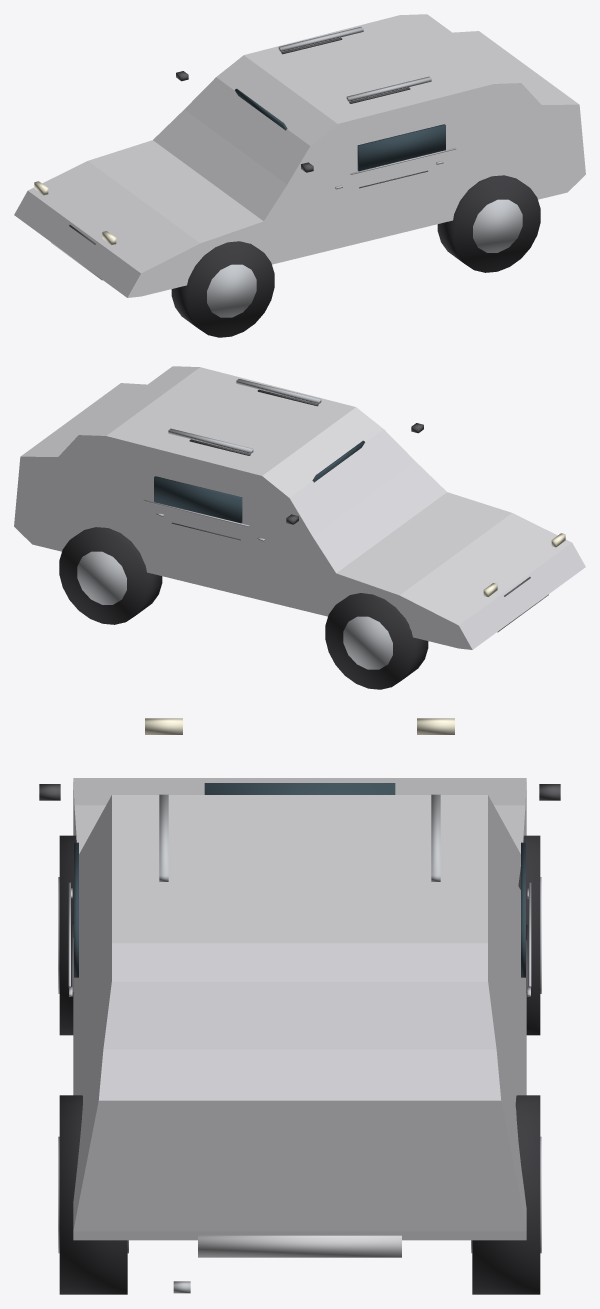
File: suv.glb
3 views of the same model, one above another, from view 1: azimuth 30°, elevation 25°; view 2: azimuth 150°, elevation 25°; view 3: azimuth 270°, elevation 25° (orthographic). The views are drawn at different scales.
Parts seen in each view (by area): view 1: body_main, wheel_rear_r, wheel_front_r, glass_side_r, trim_rim__rear_r, trim_rim__front_r, trim_rail_r, trim_rail_l; view 2: body_main, wheel_rear_l, wheel_front_l, glass_side_l, trim_rim__rear_l, trim_rim__front_l, trim_rail_l, trim_rail_r; view 3: body_main, wheel_rear_l, wheel_rear_r, body_bumper_rear, wheel_front_l, wheel_front_r, glass_windshield, trim_rail_l, trim_rail_r.
Boxes of the visible parts, box(x1,y1,x2,y2) form: body_main: box(14, 14, 585, 297); wheel_rear_r: box(437, 175, 540, 272); wheel_front_r: box(171, 241, 274, 337); glass_side_r: box(357, 124, 445, 171); trim_rim__rear_r: box(473, 199, 522, 252); trim_rim__front_r: box(207, 264, 256, 317); trim_rail_r: box(346, 76, 431, 101); trim_rail_l: box(278, 27, 363, 51); body_main: box(14, 366, 585, 649); wheel_rear_l: box(59, 527, 162, 624); wheel_front_l: box(325, 593, 428, 689); glass_side_l: box(154, 476, 242, 523); trim_rim__rear_l: box(77, 551, 126, 604); trim_rim__front_l: box(343, 616, 392, 669); trim_rail_l: box(168, 428, 253, 453); trim_rail_r: box(236, 379, 321, 403); body_main: box(73, 778, 526, 1240); wheel_rear_l: box(472, 1095, 540, 1294); wheel_rear_r: box(59, 1095, 127, 1294); body_bumper_rear: box(198, 1235, 401, 1257); wheel_front_l: box(518, 835, 540, 1035); wheel_front_r: box(59, 835, 76, 1035); glass_windshield: box(204, 783, 395, 794); trim_rail_l: box(431, 794, 440, 881); trim_rail_r: box(159, 794, 168, 881).
Size of the model in its own units: 5.05 by 1.93 by 2.46.
